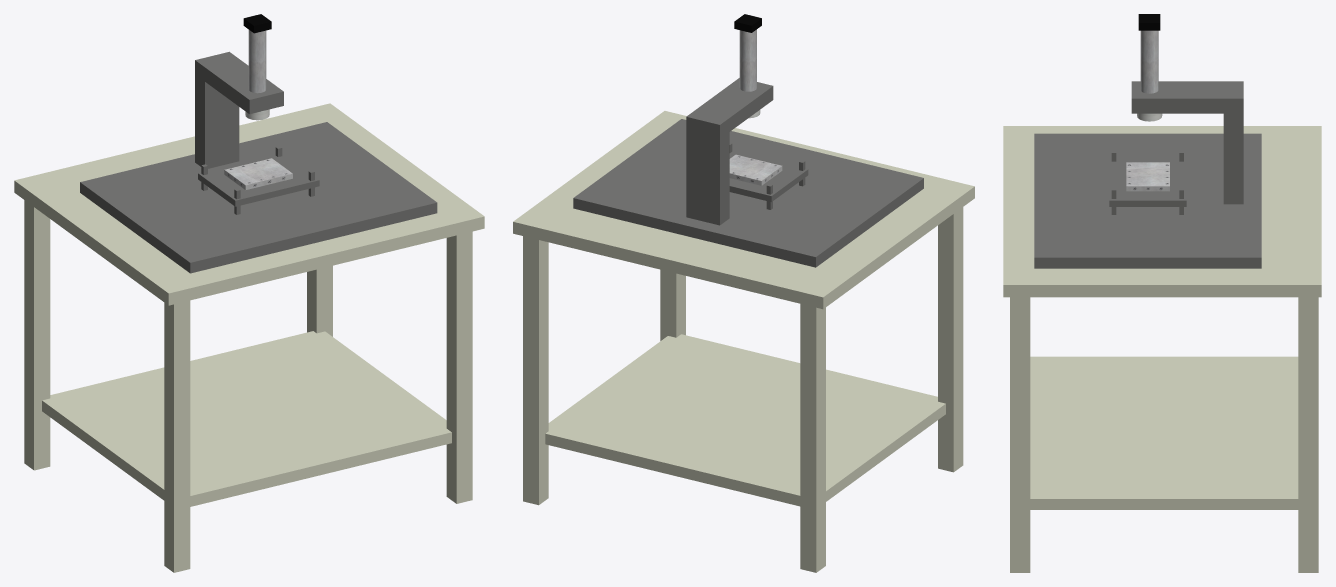
Rendered from 流水线_b1_jiqi1.fbx.
The picture shows the model from 3 angles, left to right: view 1: azimuth 30°, elevation 25°; view 2: azimuth 150°, elevation 25°; view 3: azimuth 270°, elevation 25°; orthographic projection. The views are drawn at different scales.
Visible parts, largest first — view 1: 对象001, Box001; view 2: 对象001, Box001; view 3: 对象001, Box001.
Boxes of the visible parts, x1,y1,x2,y2 form: 对象001: [14, 103, 484, 572]; Box001: [80, 14, 437, 273]; 对象001: [513, 111, 974, 572]; Box001: [573, 14, 923, 267]; 对象001: [1003, 126, 1321, 572]; Box001: [1034, 14, 1261, 268].
Bounding box in the file's own units: 23.77 × 33.53 × 20.14.
